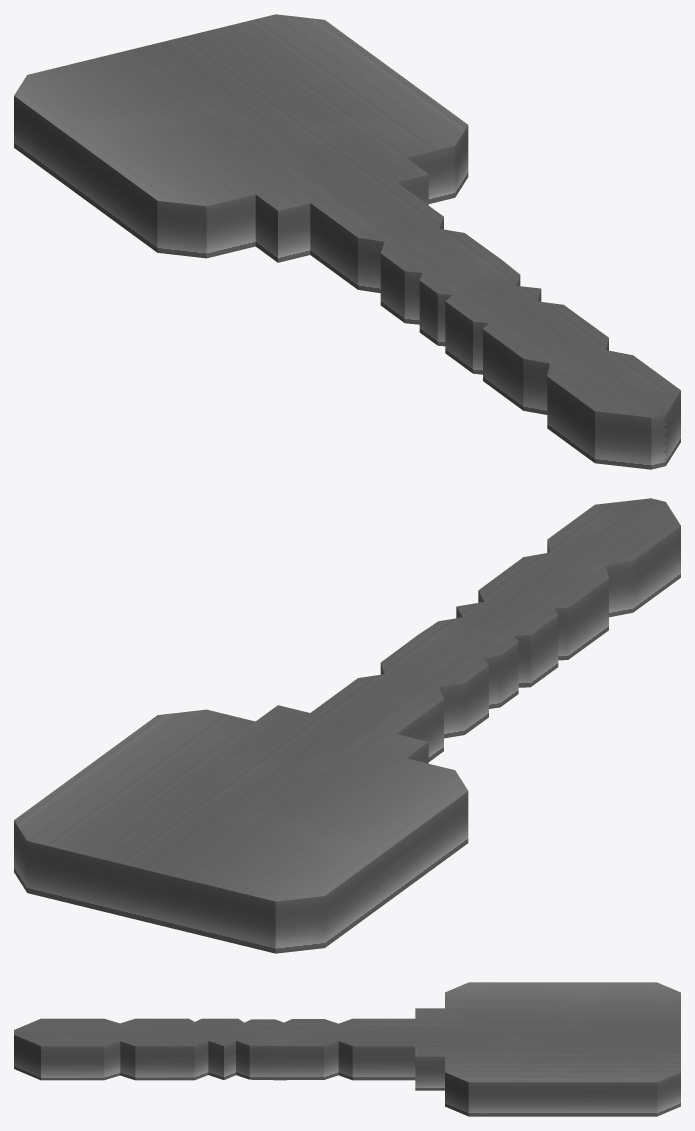
The model's file is key.obj.
3 views of the same model, one above another, from view 1: azimuth 30°, elevation 25°; view 2: azimuth 150°, elevation 25°; view 3: azimuth 270°, elevation 25° (orthographic). The views are drawn at different scales.
Parts seen in each view (by area): view 1: Plane; view 2: Plane; view 3: Plane.
Boxes of the visible parts, x1,y1,x2,y2 form: Plane: (14,14,680,469); Plane: (14,498,680,953); Plane: (14,982,680,1116).
Bounding box in the file's own units: 0.0999 × 0.016 × 0.2823.
Materials: 1 (1 with a texture image).
